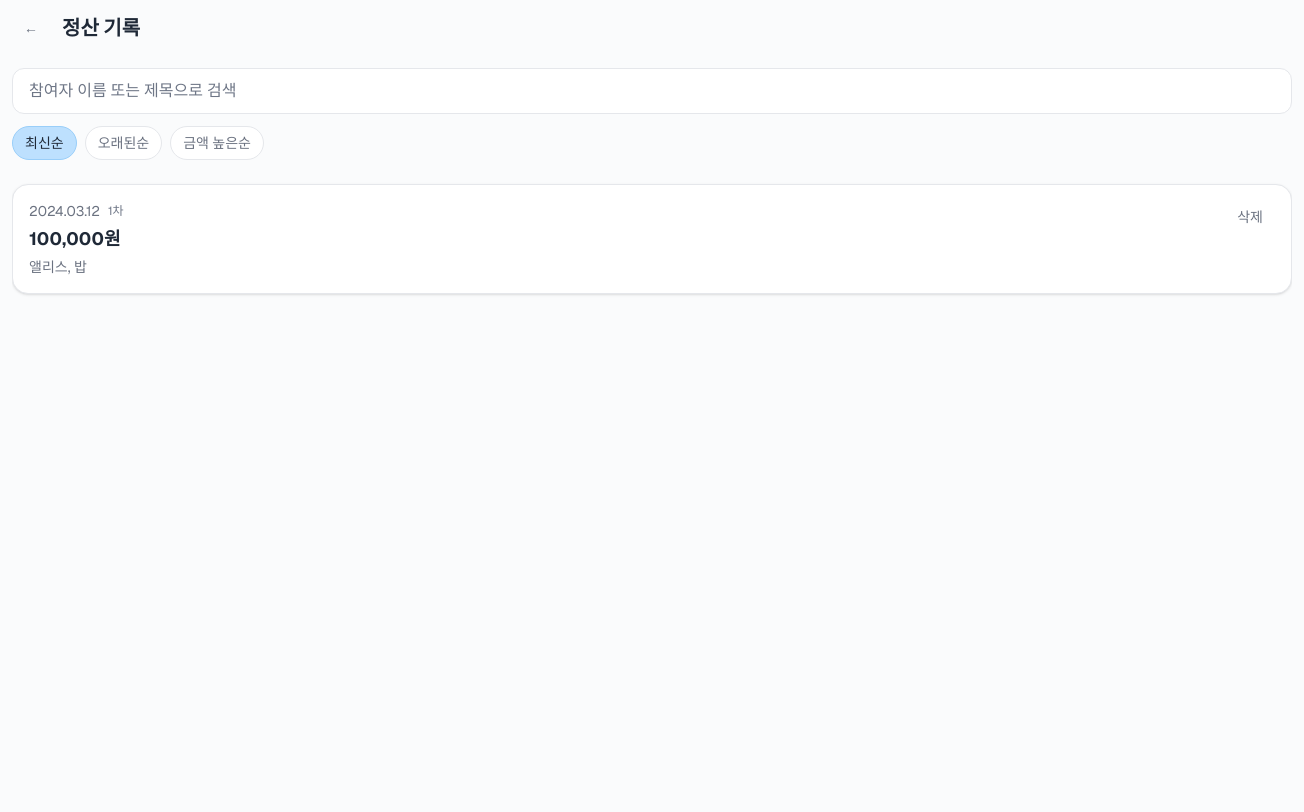
Test case: HistoryPage - HistoryDetail 렌더링 › 송금 항목이 여러개일 때 모두 렌더링
Click the button with aria-label "정산 기록". click: [64, 211]
box: [12,184,1292,294]
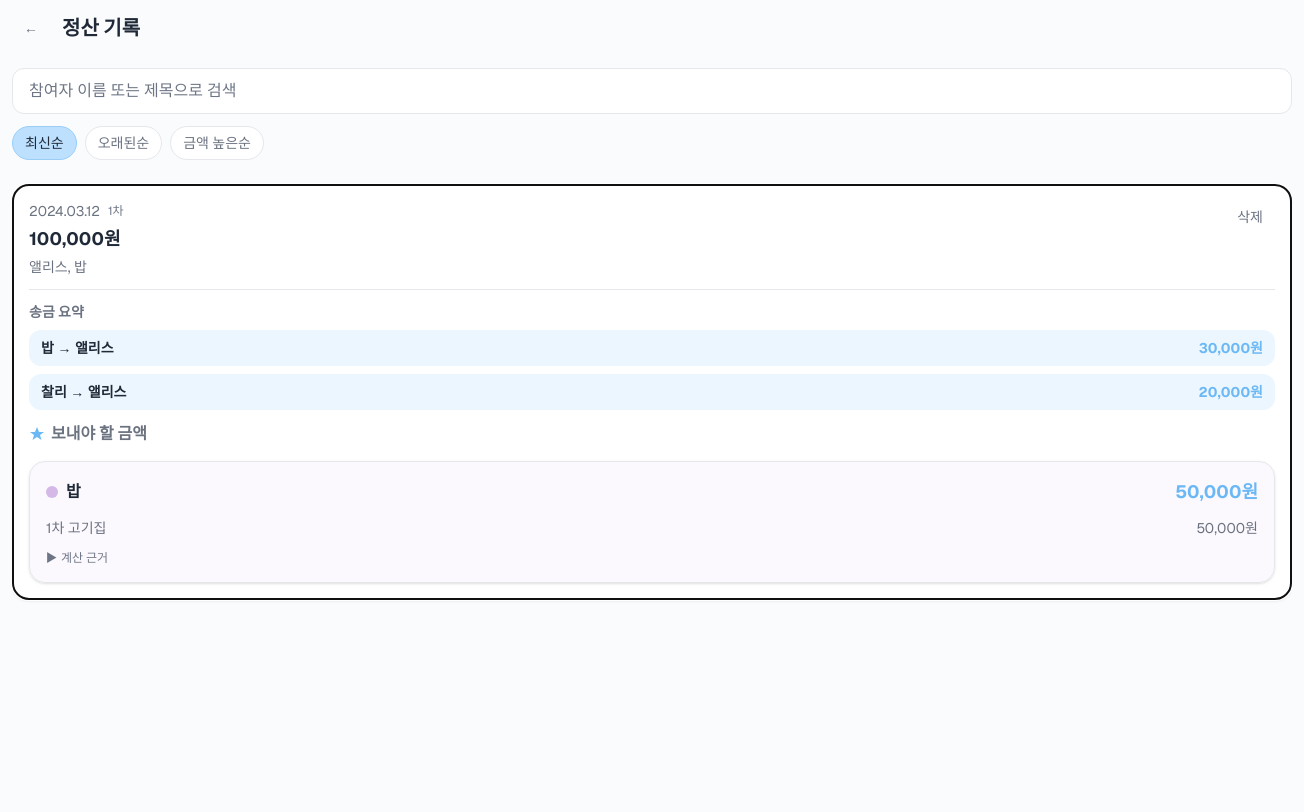
Expected: the text "30,000원" is shown, [1199,338,1263,358]
Expected: the text "20,000원" is shown, [1199,382,1263,402]
